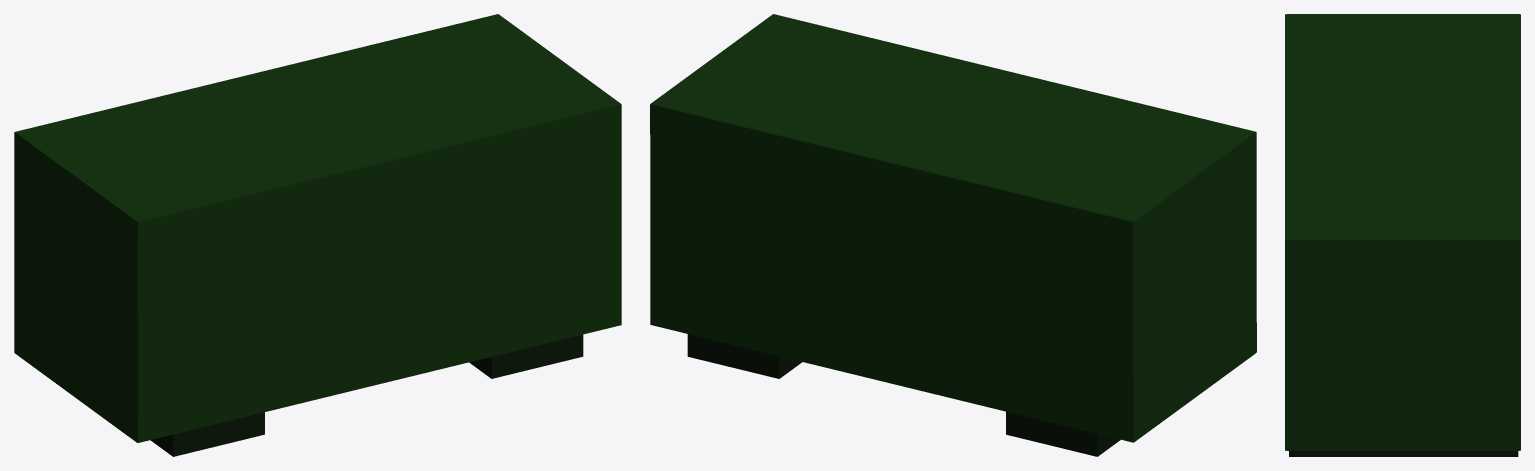
Rendered from container3.fbx.
The picture shows the model from 3 angles, left to right: view 1: azimuth 30°, elevation 25°; view 2: azimuth 150°, elevation 25°; view 3: azimuth 270°, elevation 25°; orthographic projection. The views are drawn at different scales.
Parts seen in each view (by area): view 1: Cube.076, Cube.072, Cube.001, Cube.071, Cube.070, Cube.079, Cube.080; view 2: Cube.071, Cube.072, Cube.001, Cube.070, Cube.079, Cube.080, Cube.076; view 3: Cube.072, Cube.078, Cube.071, Cube.070, Cube.076, Cube.080.
Part boxes in pixels (left/top/right/bottom): Cube.076: left=125, top=103, right=621, bottom=442; Cube.072: left=15, top=14, right=620, bottom=244; Cube.001: left=26, top=164, right=136, bottom=418; Cube.071: left=14, top=14, right=498, bottom=361; Cube.070: left=15, top=330, right=136, bottom=442; Cube.079: left=150, top=412, right=264, bottom=456; Cube.080: left=469, top=334, right=583, bottom=378; Cube.071: left=650, top=104, right=1146, bottom=442; Cube.072: left=651, top=14, right=1255, bottom=235; Cube.001: left=1145, top=156, right=1255, bottom=410; Cube.070: left=1134, top=330, right=1255, bottom=441; Cube.079: left=1006, top=411, right=1120, bottom=456; Cube.080: left=687, top=334, right=802, bottom=378; Cube.076: left=773, top=14, right=1256, bottom=361; Cube.072: left=1286, top=14, right=1519, bottom=261; Cube.078: left=1288, top=261, right=1497, bottom=429; Cube.071: left=1496, top=14, right=1520, bottom=450; Cube.070: left=1286, top=428, right=1519, bottom=450; Cube.076: left=1285, top=14, right=1309, bottom=450; Cube.080: left=1289, top=451, right=1518, bottom=456.
Size of the model in its own units: 4233 by 2050 by 1870.
